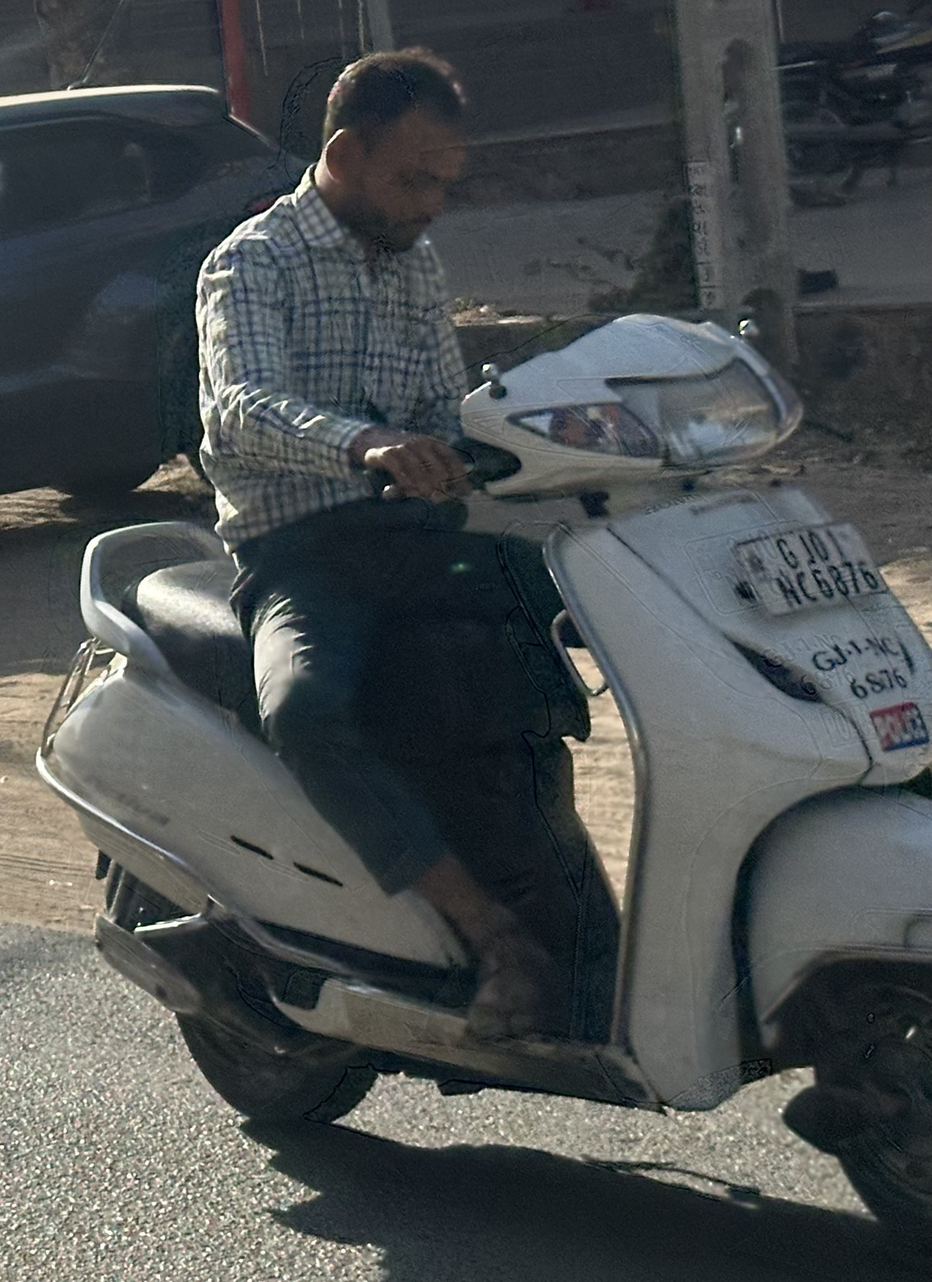BikeWithRider: (17, 28, 932, 1262)
NoHelmet: (298, 44, 484, 242)
